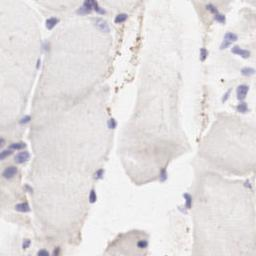nucleus: (230, 45, 251, 58), (235, 83, 251, 99), (93, 17, 109, 33), (45, 16, 62, 30), (182, 192, 193, 211), (15, 151, 30, 164), (235, 101, 250, 114), (199, 47, 211, 63), (240, 65, 256, 77), (222, 87, 233, 104), (93, 1, 106, 15), (2, 167, 16, 179), (78, 1, 92, 13), (42, 39, 53, 54), (16, 202, 32, 212), (204, 4, 220, 14), (93, 169, 106, 181), (9, 142, 28, 150), (114, 13, 129, 23), (17, 115, 32, 124), (224, 31, 239, 40), (1, 149, 13, 160), (107, 117, 118, 128), (22, 183, 34, 193), (159, 169, 168, 182), (219, 40, 232, 49), (34, 57, 42, 71), (22, 239, 31, 250), (90, 190, 97, 203), (137, 240, 148, 248), (215, 15, 226, 23), (38, 249, 48, 256), (244, 177, 250, 187), (1, 136, 6, 147), (54, 249, 59, 256)
